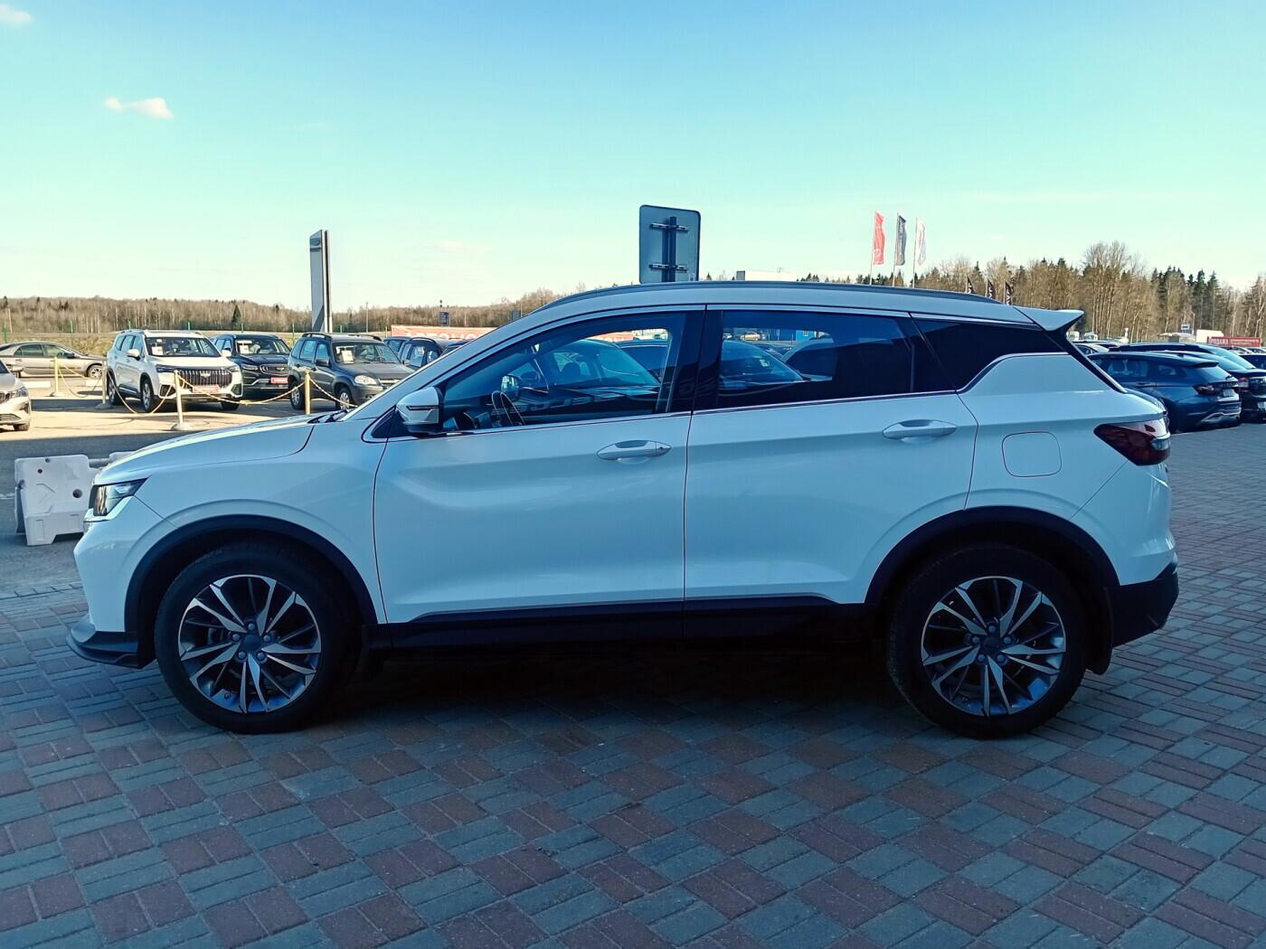Coolray_2019-2023: (72, 281, 1174, 771)
